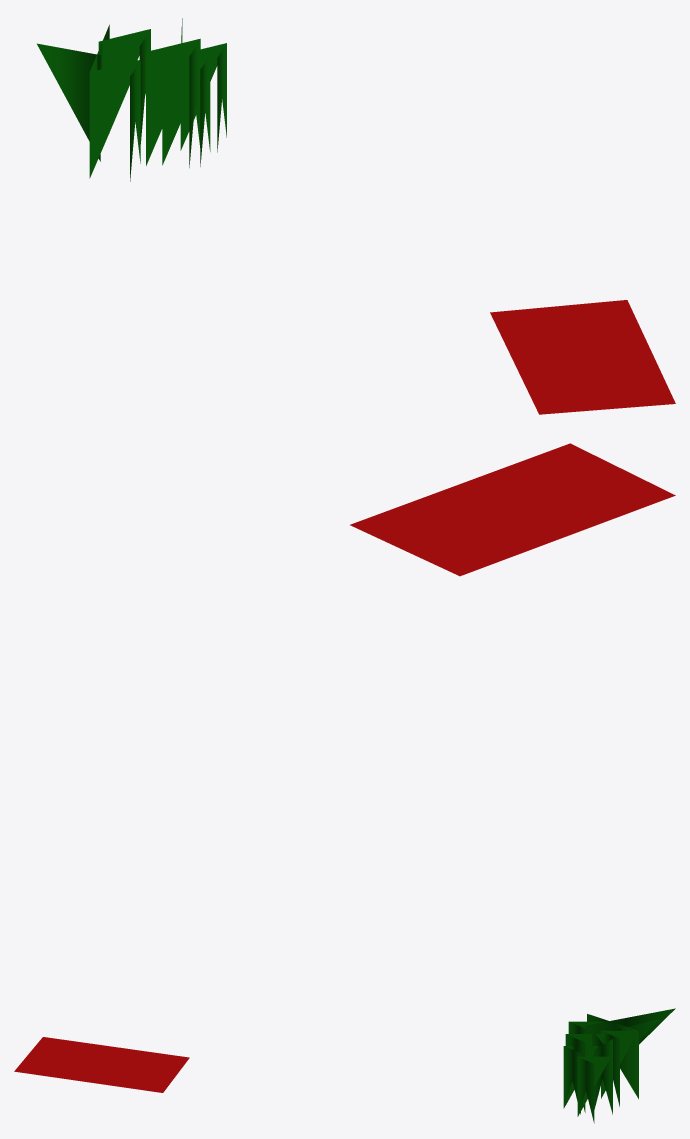
3 renders of one model, top to bottom at view 1: azimuth 30°, elevation 25°; view 2: azimuth 150°, elevation 25°; view 3: azimuth 270°, elevation 25°, orthographic. The views are drawn at different scales.
Bounding box in the file's own units: 35.26 × 19.61 × 154.
